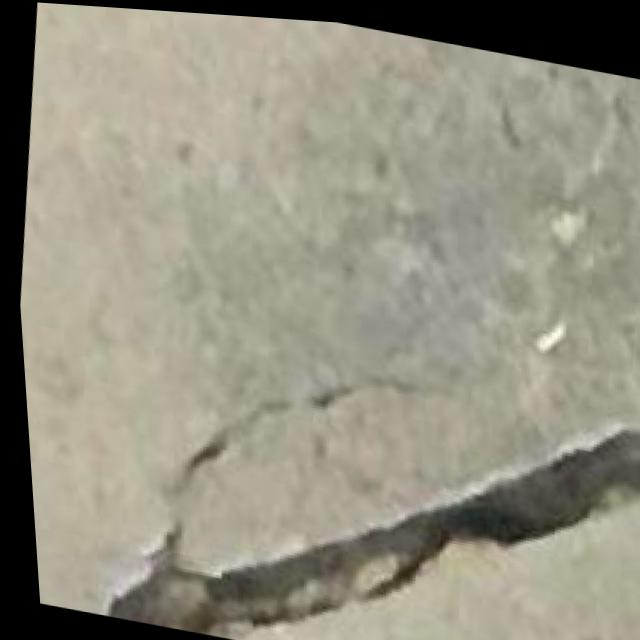Crack: (77, 305, 640, 640)
